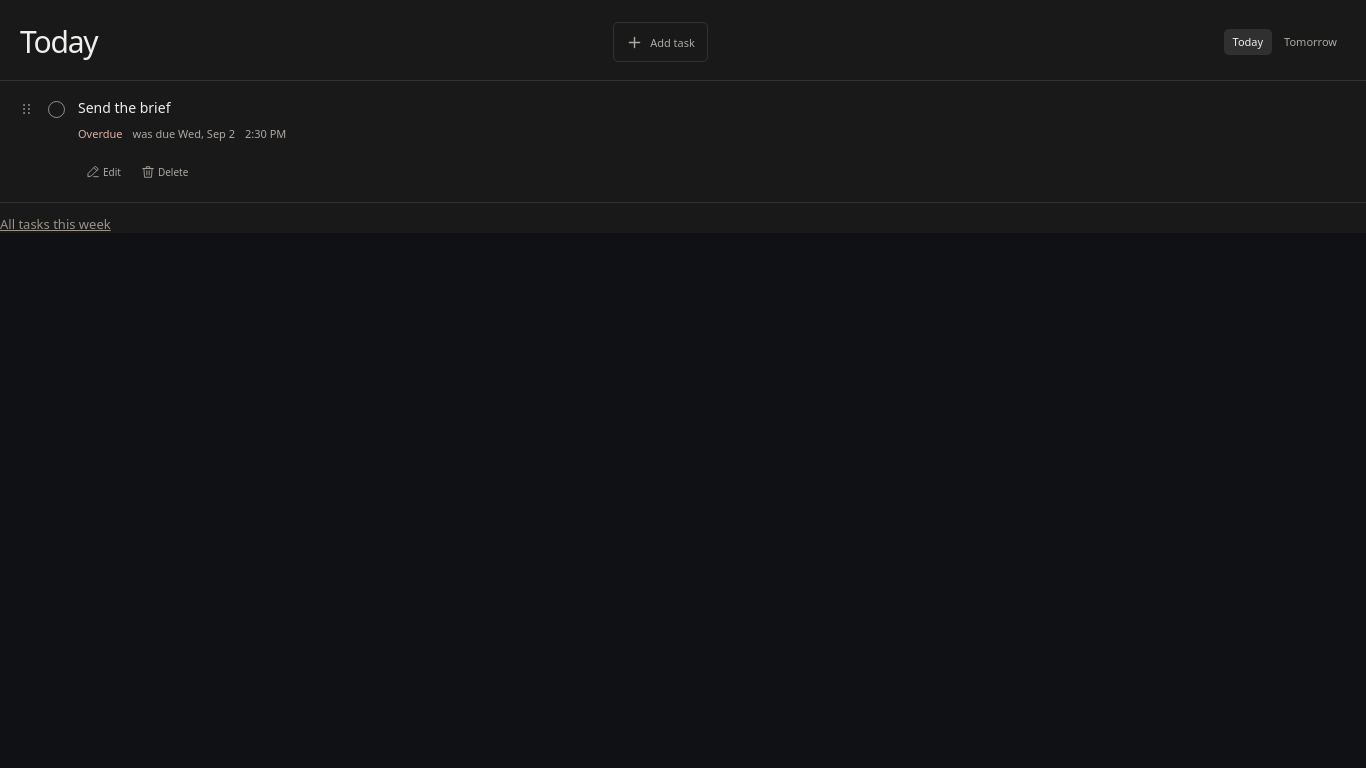
Test: TodayPanel › moves an edited task between day views without changing its title or saved rank
Click the button "Tomorrow": click(1311, 42) [1275, 29, 1346, 55]
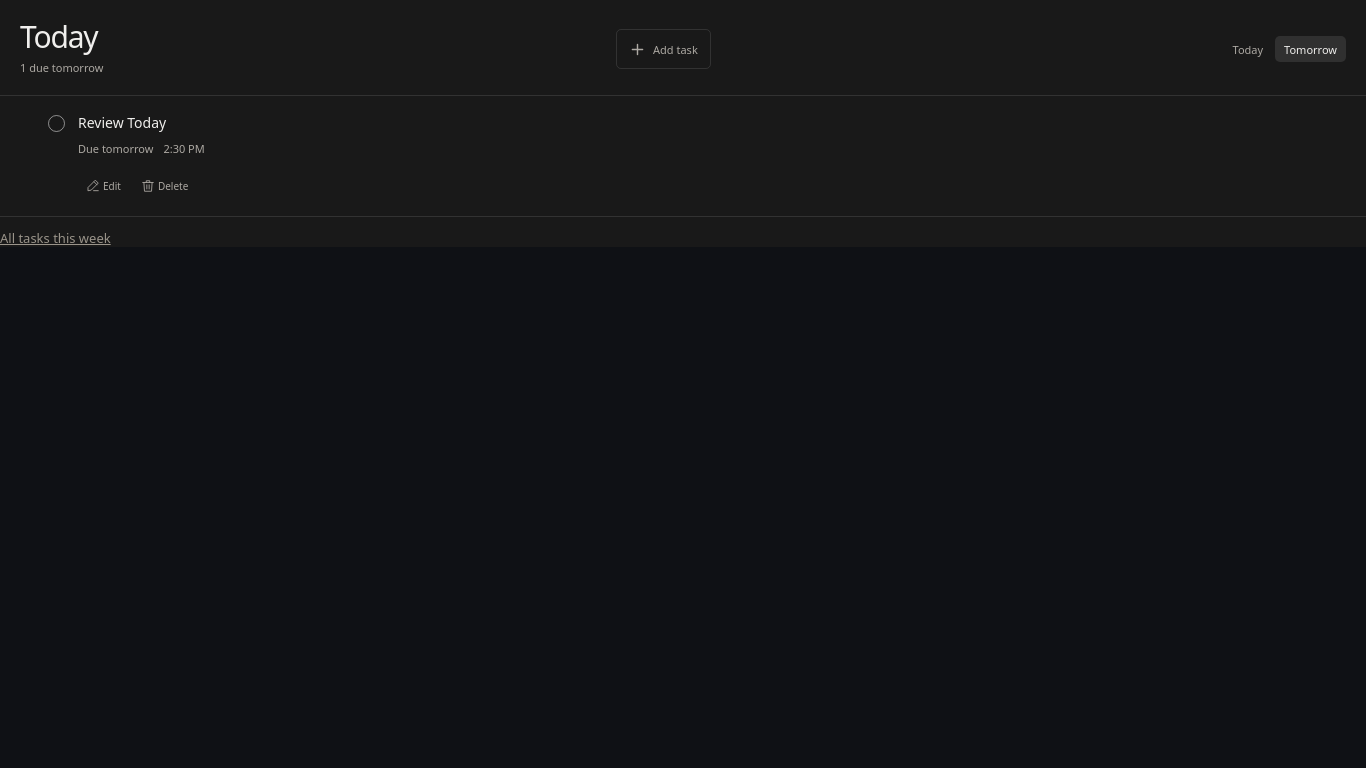
Click the button with aria-label "Edit Review Today": click(103, 186) [78, 170, 129, 202]
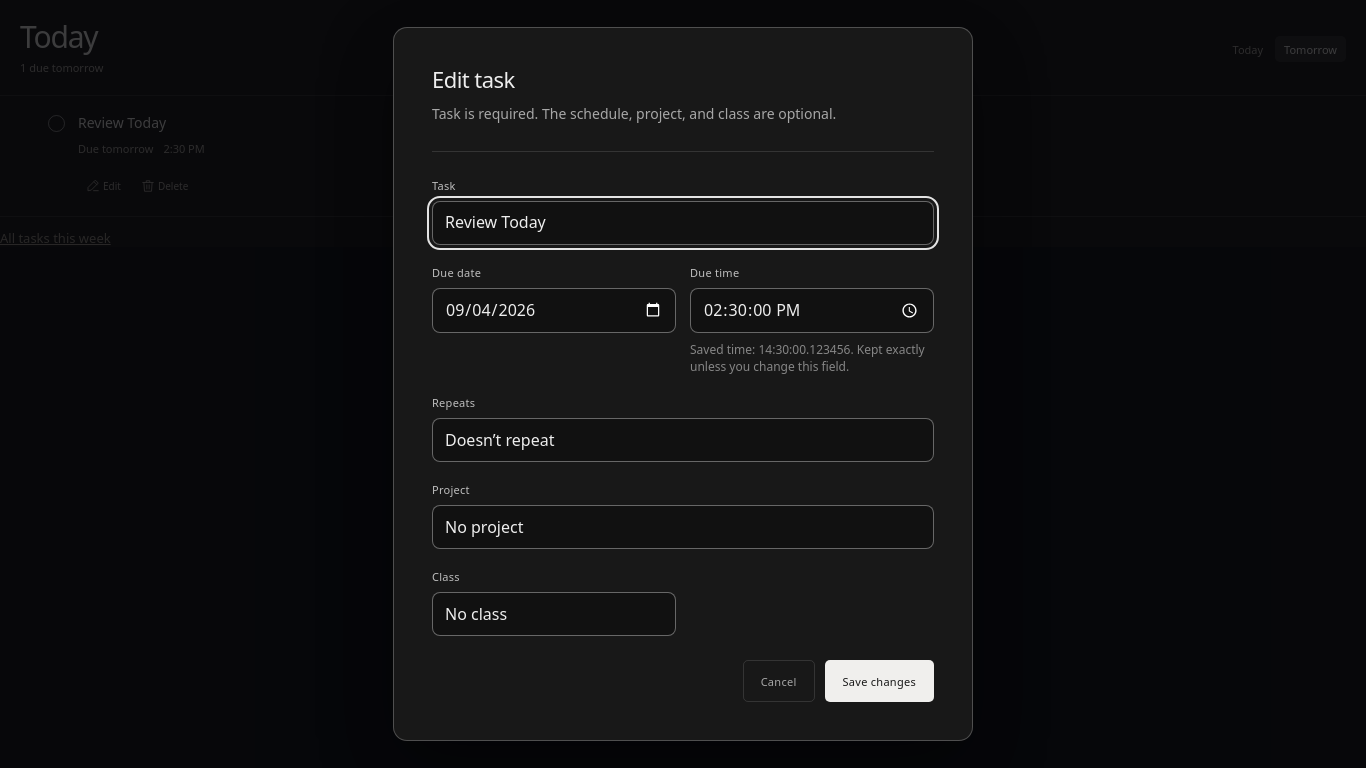
In the date field labelled "Due date": (554, 310) [432, 288, 676, 333], type "2026-09-03"
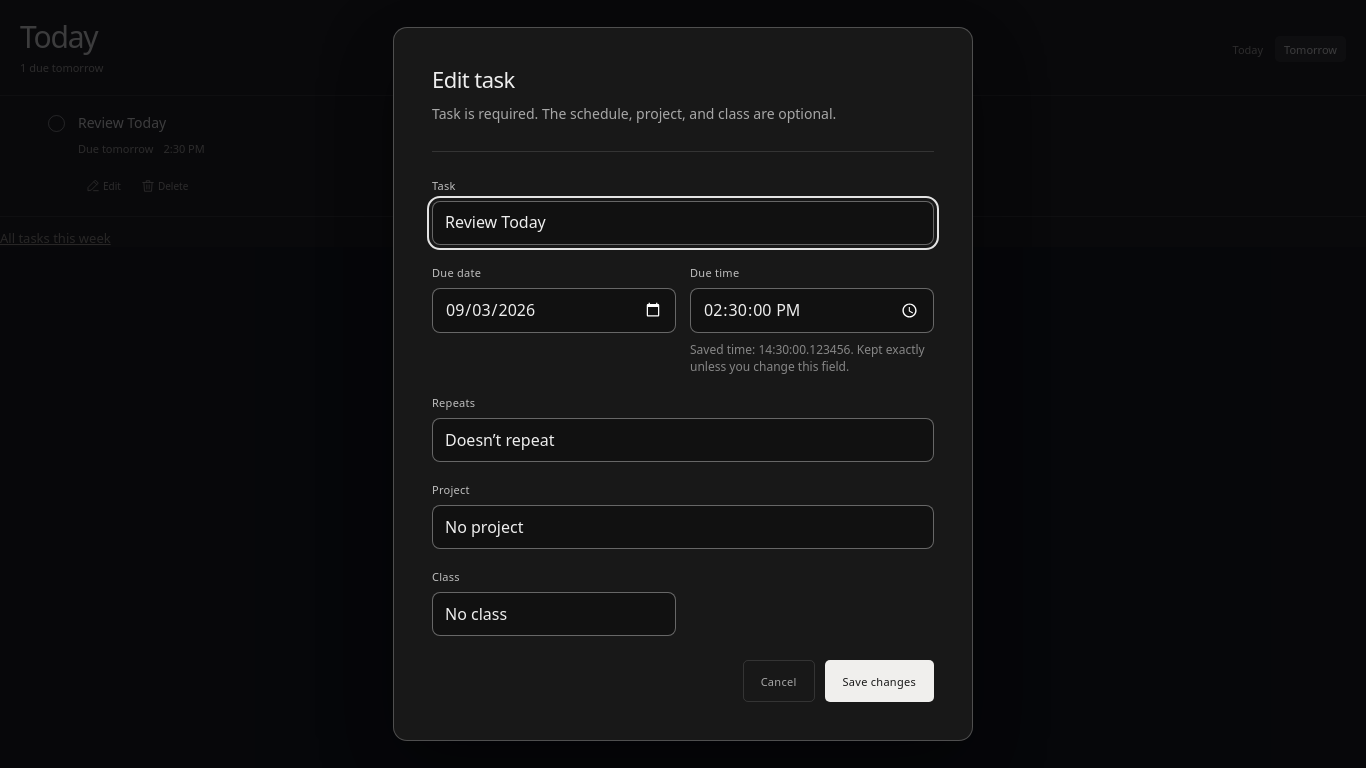
Click the button "Save changes": click(879, 681) [824, 660, 934, 702]
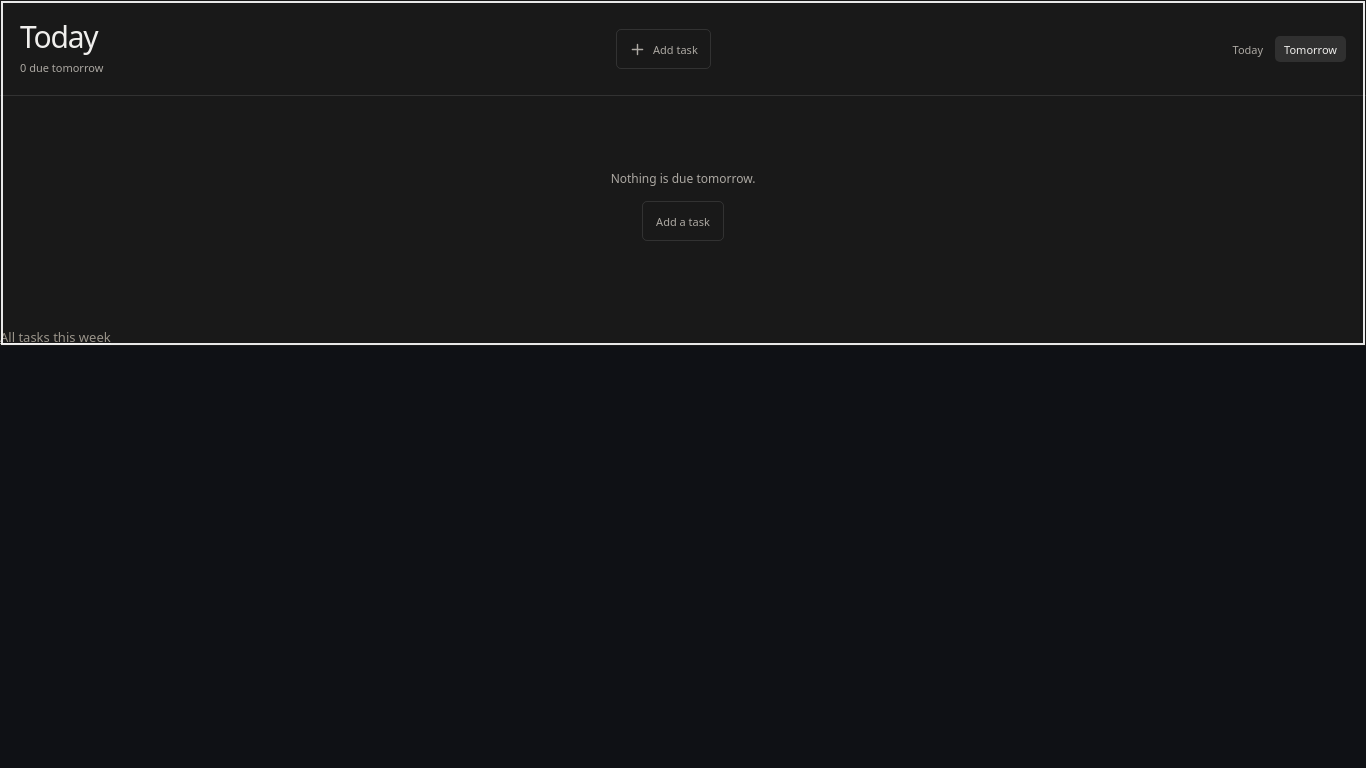
Check: the text "Nothing is due tomorrow." is shown, box [611, 170, 755, 187]
Click the button "Today": click(1248, 49) [1224, 36, 1272, 62]
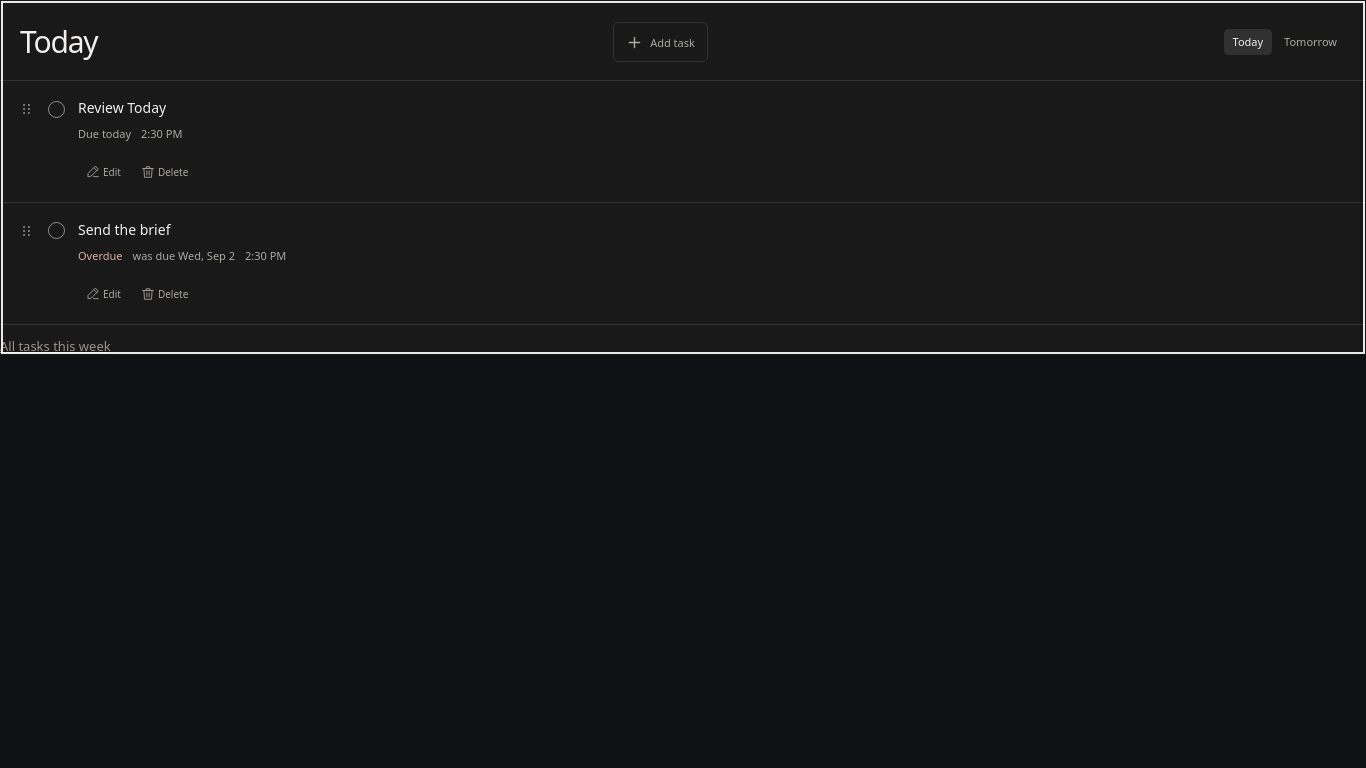
Check: the checkbox named "Mark Review Today complete" is shown, box [44, 97, 68, 121]
